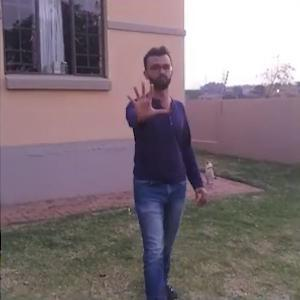follow_hand: (124, 76, 172, 124)
